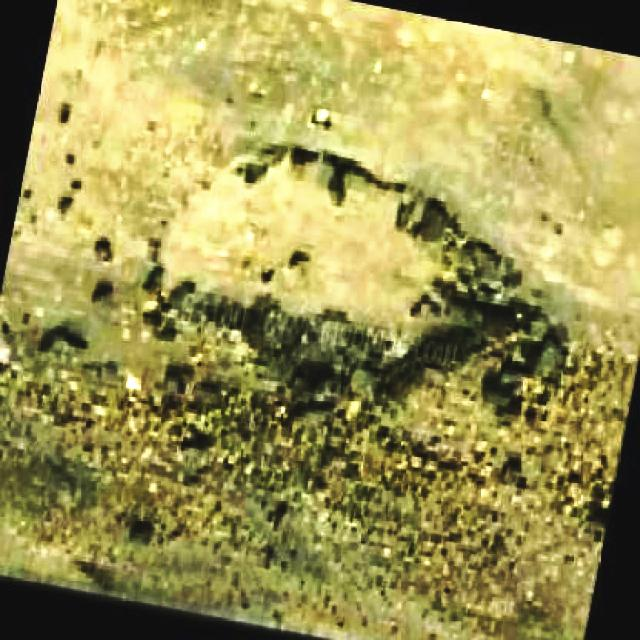pothole: (146, 134, 551, 411)
